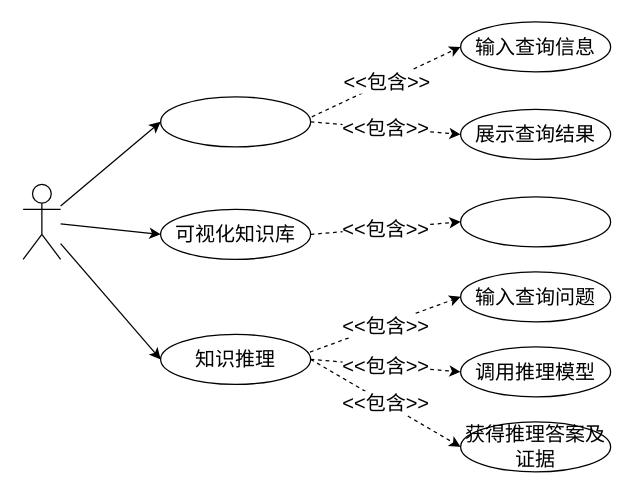
The diagram is 633 pixels wide and 494 high, and some of its shapes have lost their labels. The box of each missing label's shape, as (x1, y1, x2, y2) in pixels:
切换视图: (459, 196, 611, 247)
检索知识: (159, 96, 311, 147)
用户: (22, 183, 61, 259)
